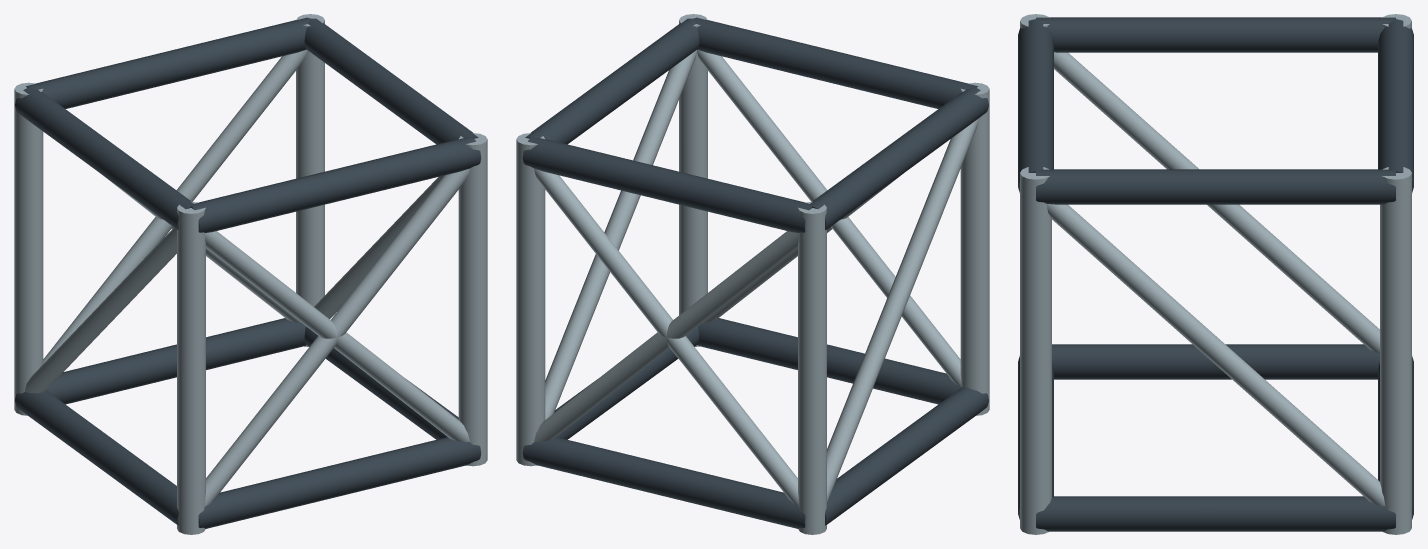
Rendered from marineFrame.glb.
The picture shows the model from 3 angles, left to right: view 1: azimuth 30°, elevation 25°; view 2: azimuth 150°, elevation 25°; view 3: azimuth 270°, elevation 25°; orthographic projection. The views are drawn at different scales.
Parts seen in each view (by area): view 1: marineFrame; view 2: marineFrame; view 3: marineFrame.
Part boxes in pixels (x1=…): marineFrame: x1=14, y1=14, x2=487, y2=534; marineFrame: x1=516, y1=14, x2=989, y2=534; marineFrame: x1=1018, y1=14, x2=1413, y2=534.
Bounding box in the file's own units: 4 × 4 × 4.
